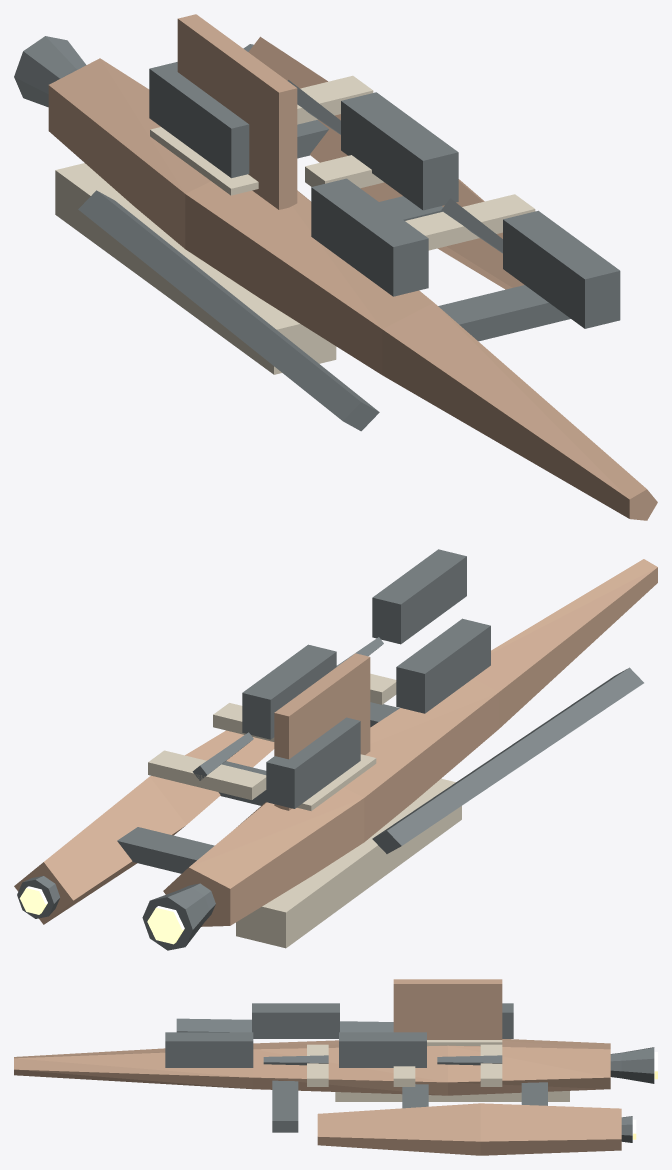
The picture shows the model from 3 angles, top to bottom: view 1: azimuth 30°, elevation 25°; view 2: azimuth 150°, elevation 25°; view 3: azimuth 270°, elevation 25°; orthographic projection. The views are drawn at different scales.
Bounding box in the file's own units: 6.39 × 3.79 × 17.57.
